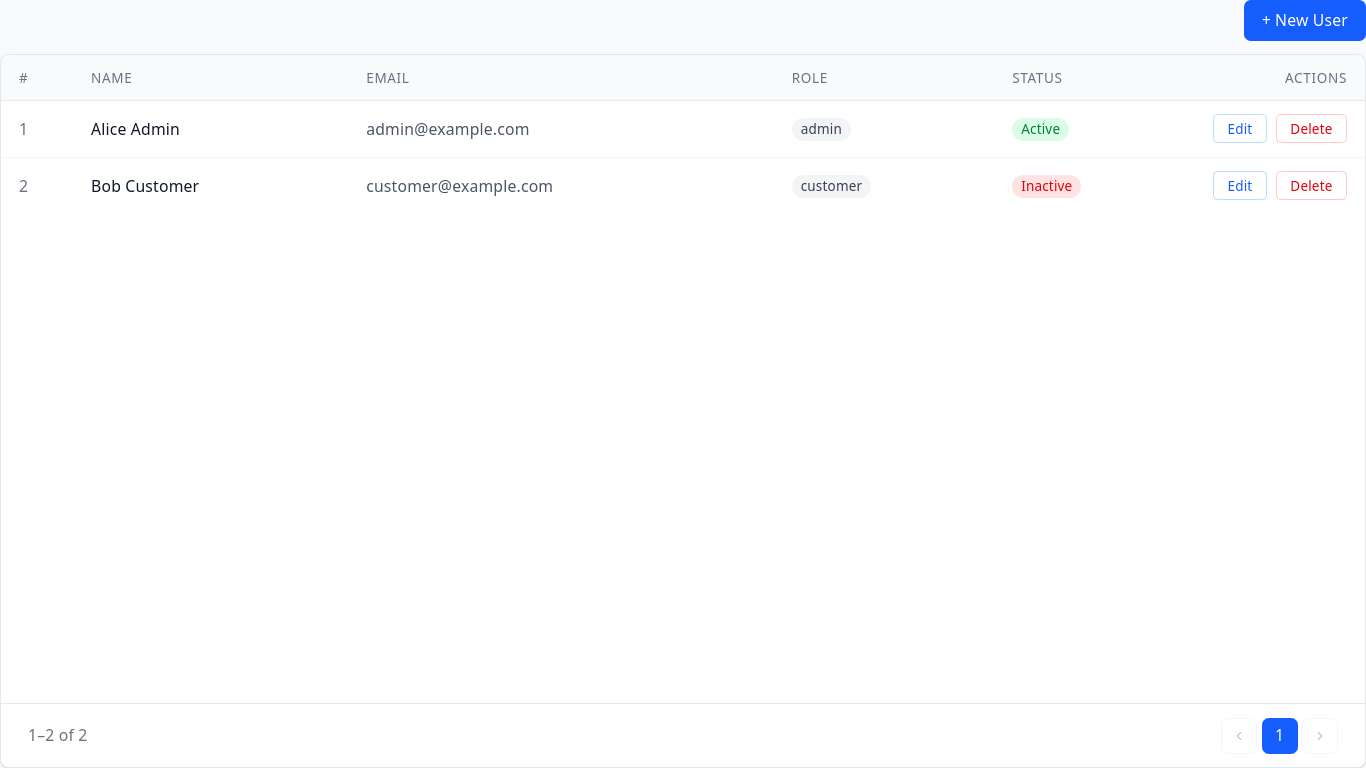
UserList › closes modal when Cancel is clicked inside the form
The width and height of the screenshot is (1366, 768).
Step 1. Click the button "+ New User" → (1305, 20), box [1244, 0, 1365, 40]
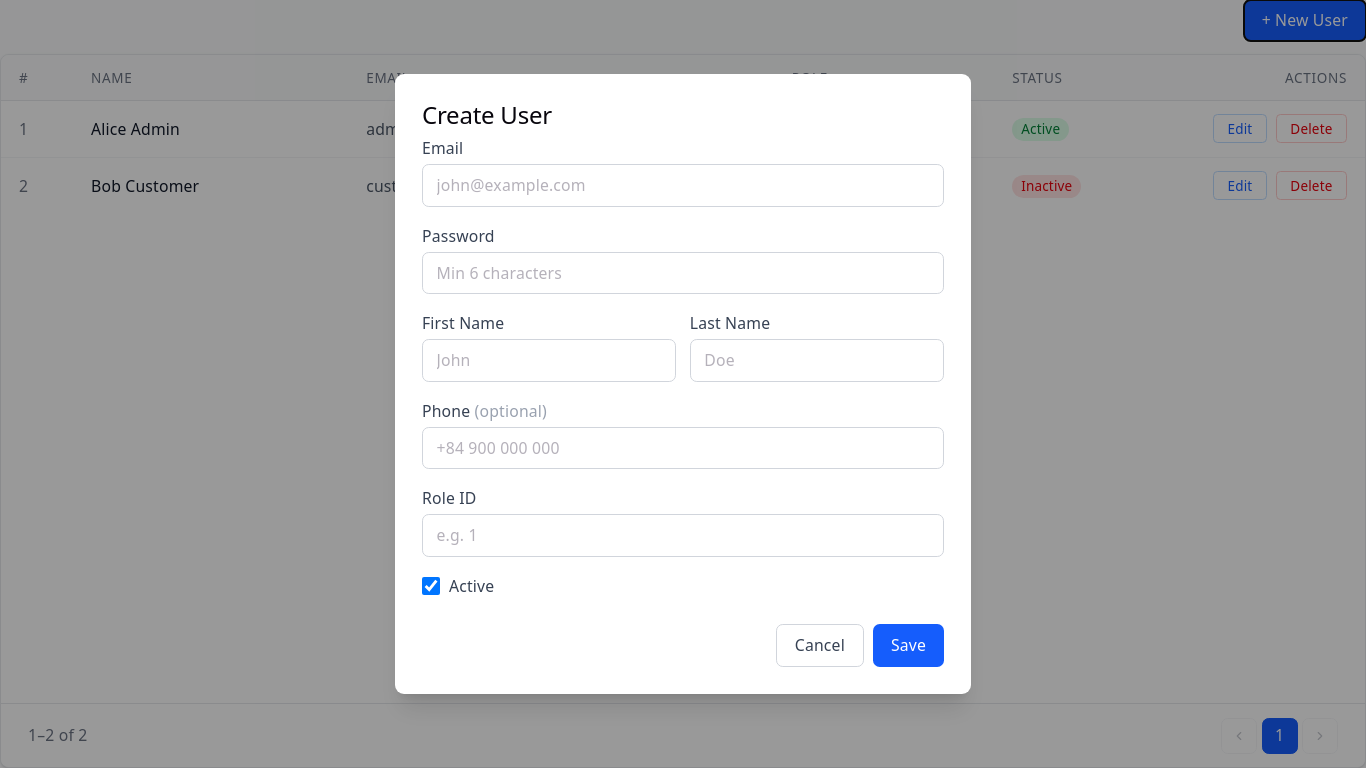
Result: the heading "Create User" is shown at [422, 98, 552, 131]
Step 2. Click the button "Cancel" → (820, 646), box [776, 624, 864, 667]
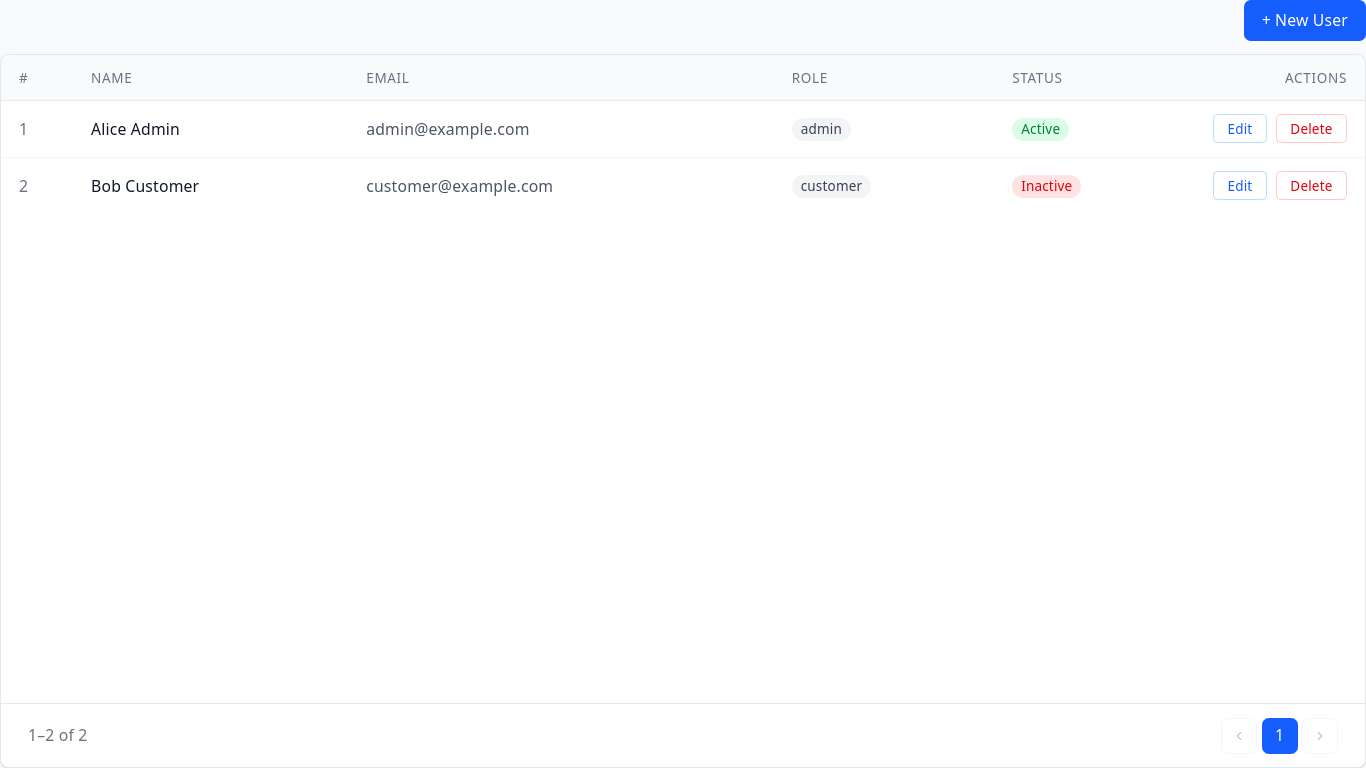
Result: the heading "Create User" is gone
